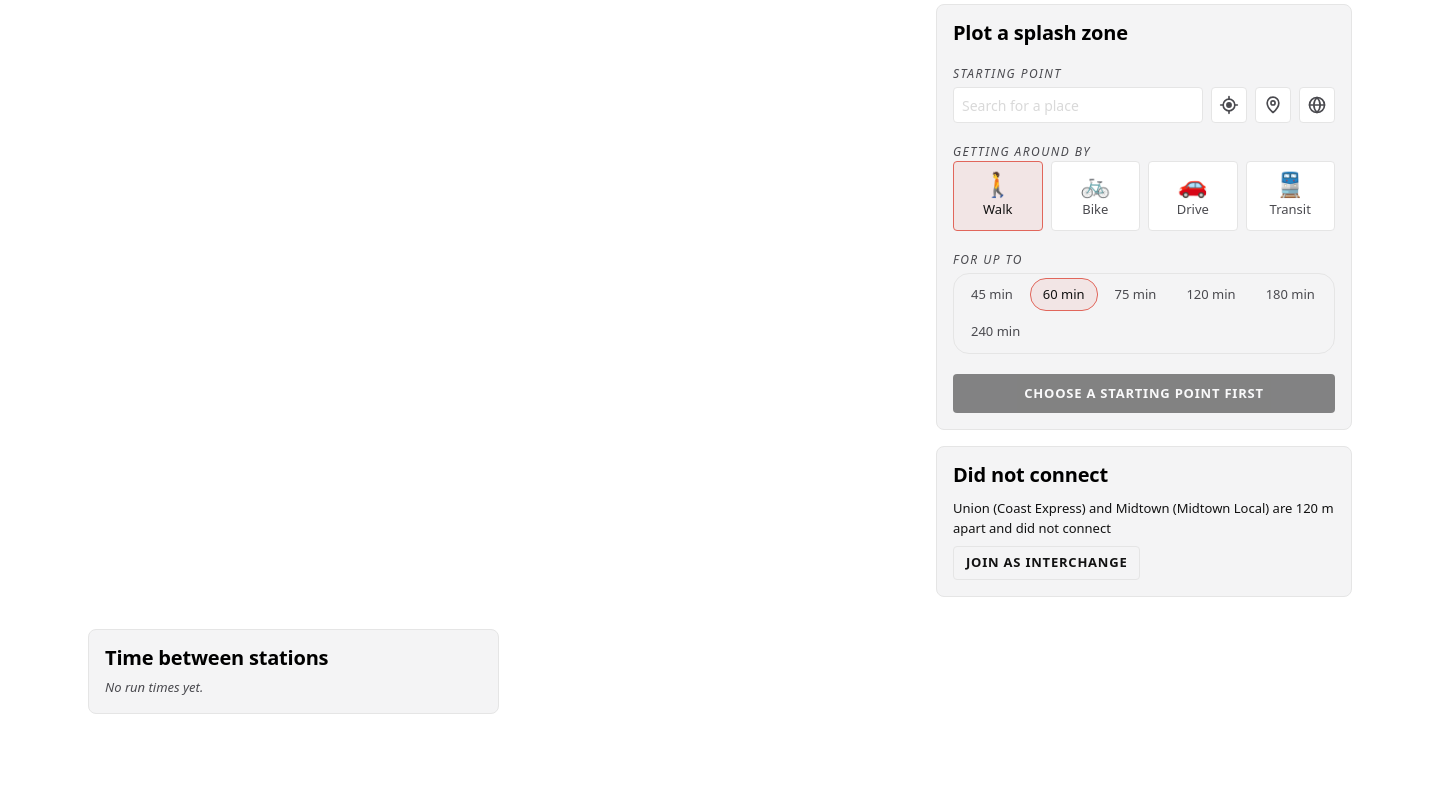
it: AuthoredScenarioView joining near misses into interchanges › does not say Joined when the join saved but its recompile failed over an older graph: it says so beside the interchanges and offers Recompile
(page scrolled)
Click the button with test id "join-interchange" at (1047,563), box [953, 546, 1140, 580]
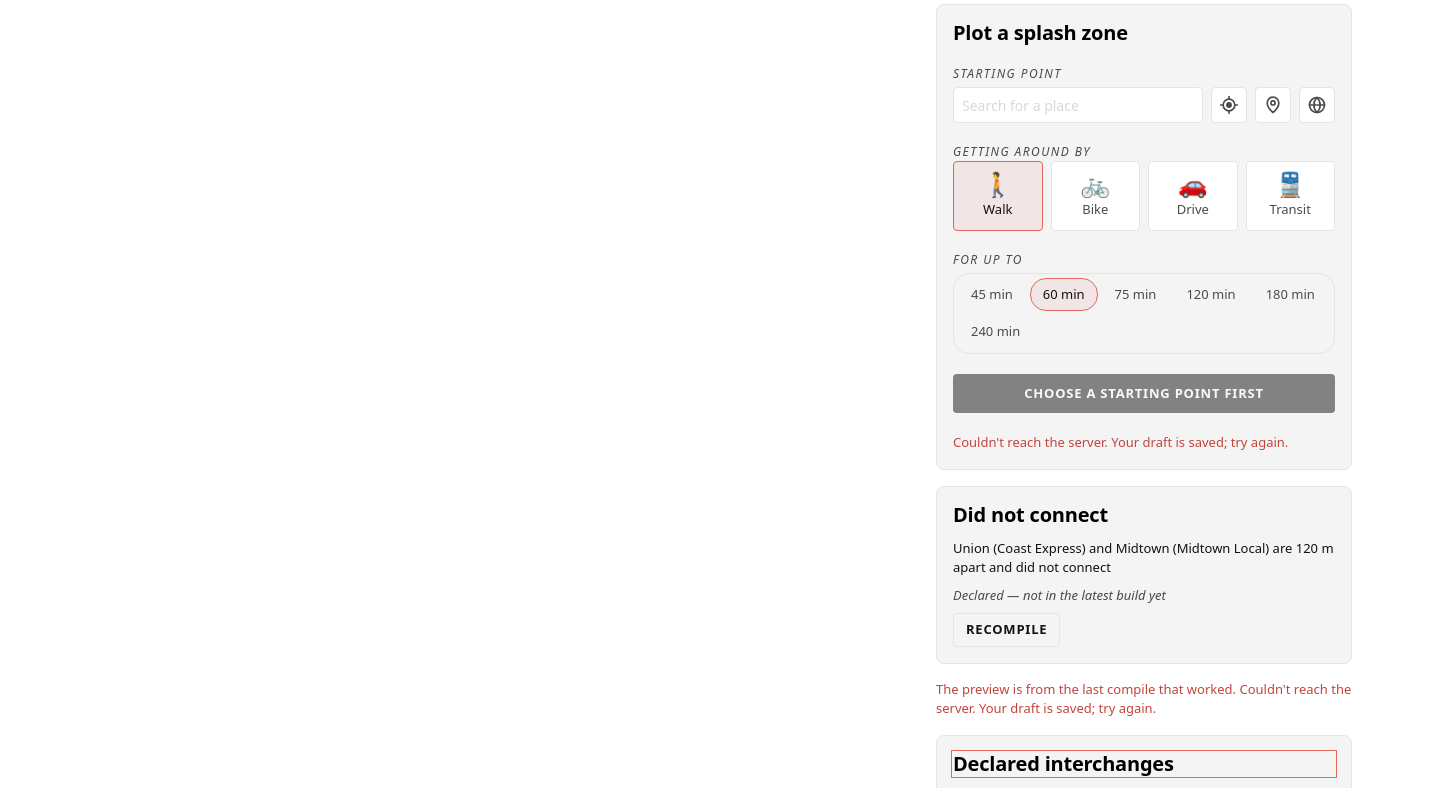
Check: the message with test id "interchange-compile-error" shows "The preview is from the last compile that worked.", box [936, 680, 1351, 717]
Check: the text with test id "near-miss-declared" reads "Declared — not in the latest build yet", box [953, 586, 1166, 604]
Check: the button with test id "recompile-interchange" is enabled
Click the button with test id "recompile-interchange" at (1007,630), box [953, 613, 1060, 647]
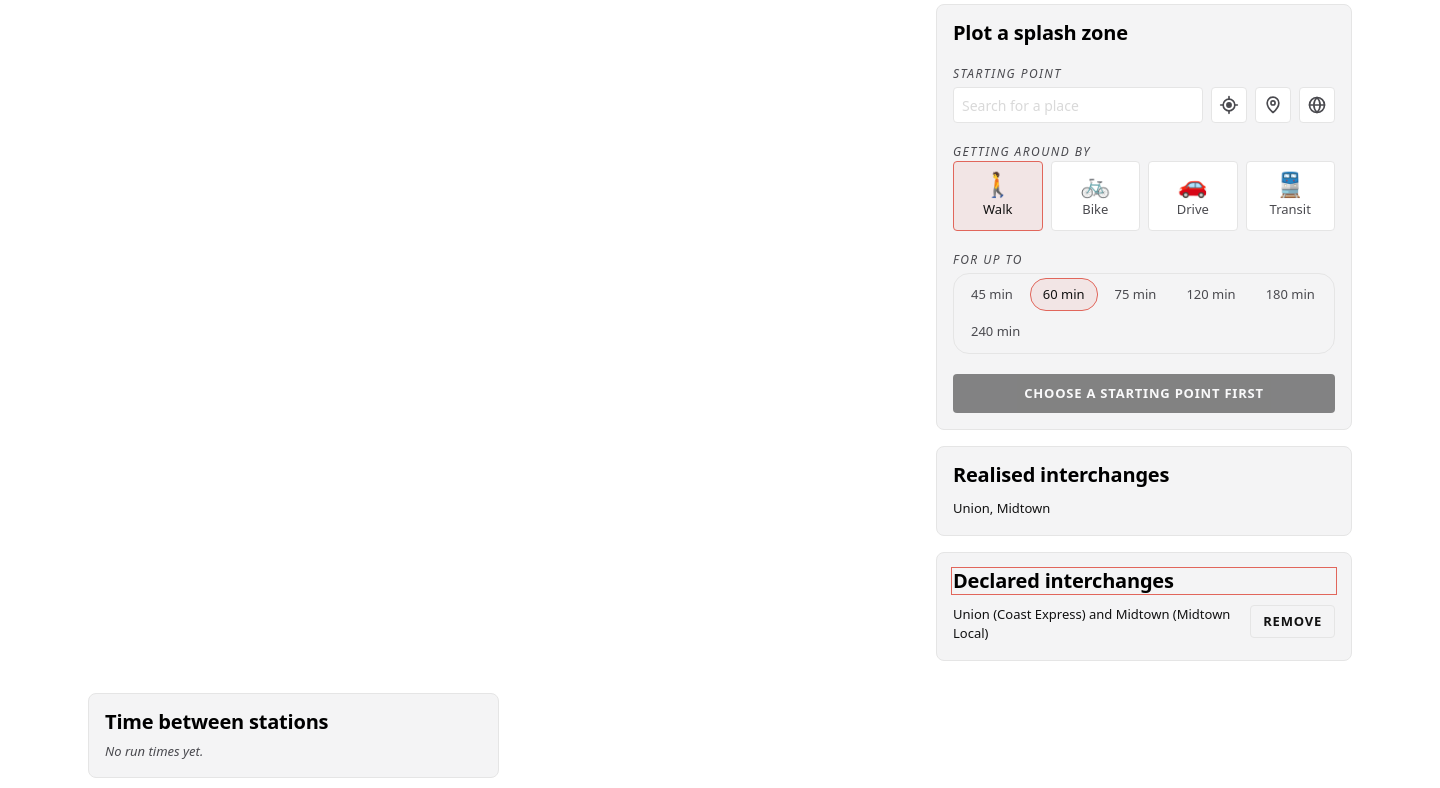
Check: the list item with test id "realised-cluster-row" reads "Union, Midtown", box [953, 499, 1050, 517]
